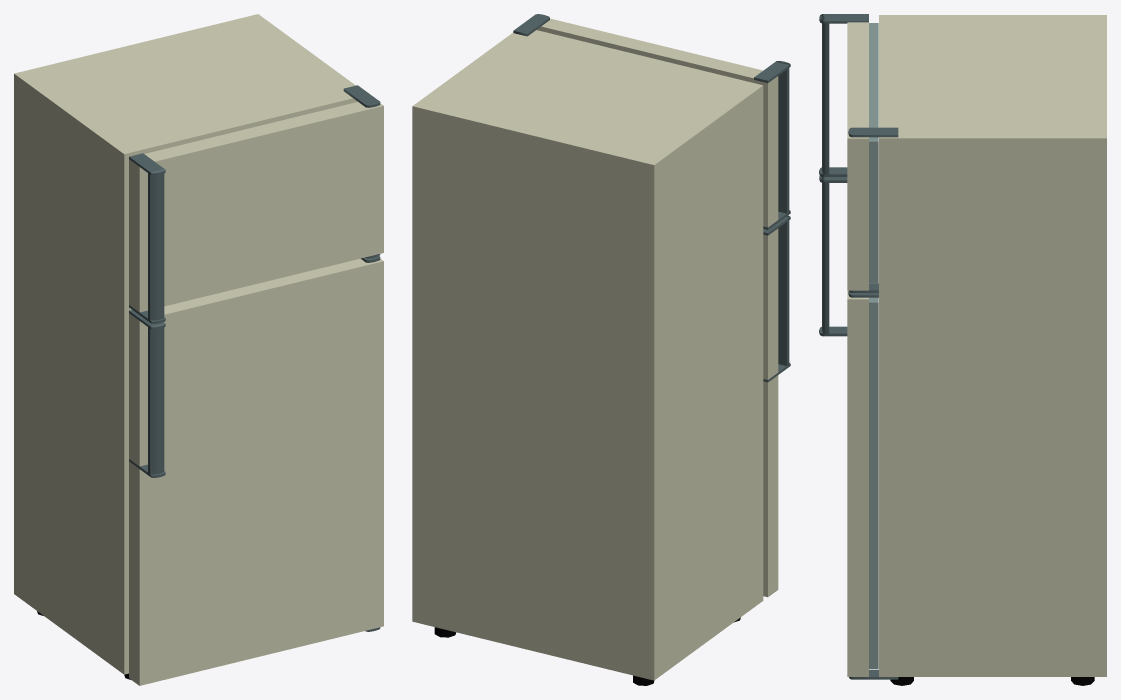
File: refri.fbx
3 views of the same model, side by side, from view 1: azimuth 30°, elevation 25°; view 2: azimuth 150°, elevation 25°; view 3: azimuth 270°, elevation 25° (orthographic). The views are drawn at different scales.
Parts seen in each view (by area): view 1: Fridge, Fridge_handles, Fridge_hinges; view 2: Fridge, Fridge_handles; view 3: Fridge, Fridge_handles, Fridge_hinges.
Part boxes in pixels (x1=…): Fridge: x1=14, y1=14, x2=383, y2=685; Fridge_handles: x1=129, y1=153, x2=165, y2=477; Fridge_hinges: x1=343, y1=85, x2=380, y2=631; Fridge: x1=412, y1=18, x2=778, y2=680; Fridge_handles: x1=754, y1=61, x2=790, y2=382; Fridge: x1=847, y1=15, x2=1106, y2=676; Fridge_handles: x1=819, y1=14, x2=868, y2=336; Fridge_hinges: x1=848, y1=127, x2=898, y2=679.
Bounding box in the file's own units: 462 × 971 × 455.
